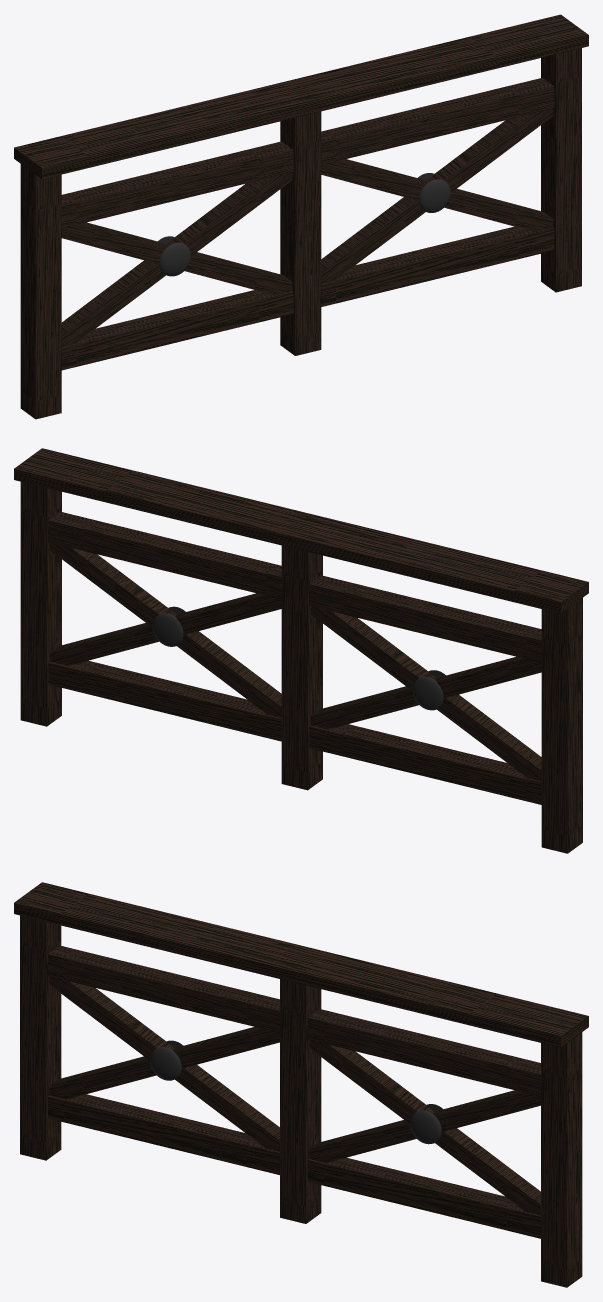
The model's file is Fence 8.FBX.
3 views of the same model, one above another, from view 1: azimuth 30°, elevation 25°; view 2: azimuth 150°, elevation 25°; view 3: azimuth 330°, elevation 25° (orthographic).
Visible parts, largest first — view 1: fence 8, post 1, post 2; view 2: fence 8, post 1, post 2; view 3: fence 8, post 2, post 1.
Part boxes in pixels (x1,y1,x2,y2): fence 8: [14, 14, 588, 370]; post 1: [20, 163, 61, 419]; post 2: [541, 48, 581, 292]; fence 8: [14, 448, 588, 804]; post 1: [541, 596, 582, 853]; post 2: [20, 481, 61, 726]; fence 8: [14, 882, 588, 1238]; post 2: [541, 1032, 582, 1287]; post 1: [20, 915, 61, 1160].
Bounding box in the file's own units: 196 × 87.82 × 17.7.
Materials: 2 (1 with a texture image).
